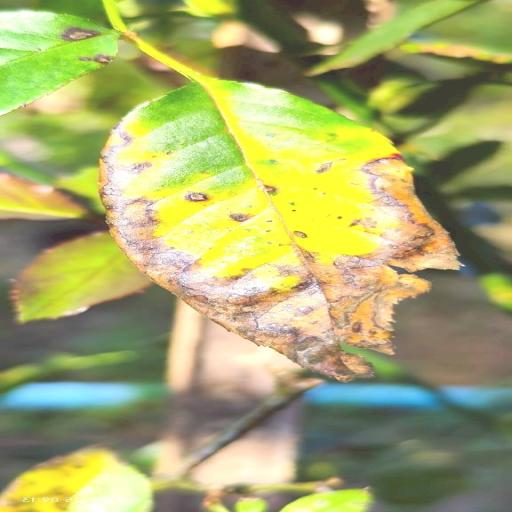thrip: (102, 77, 458, 380)
